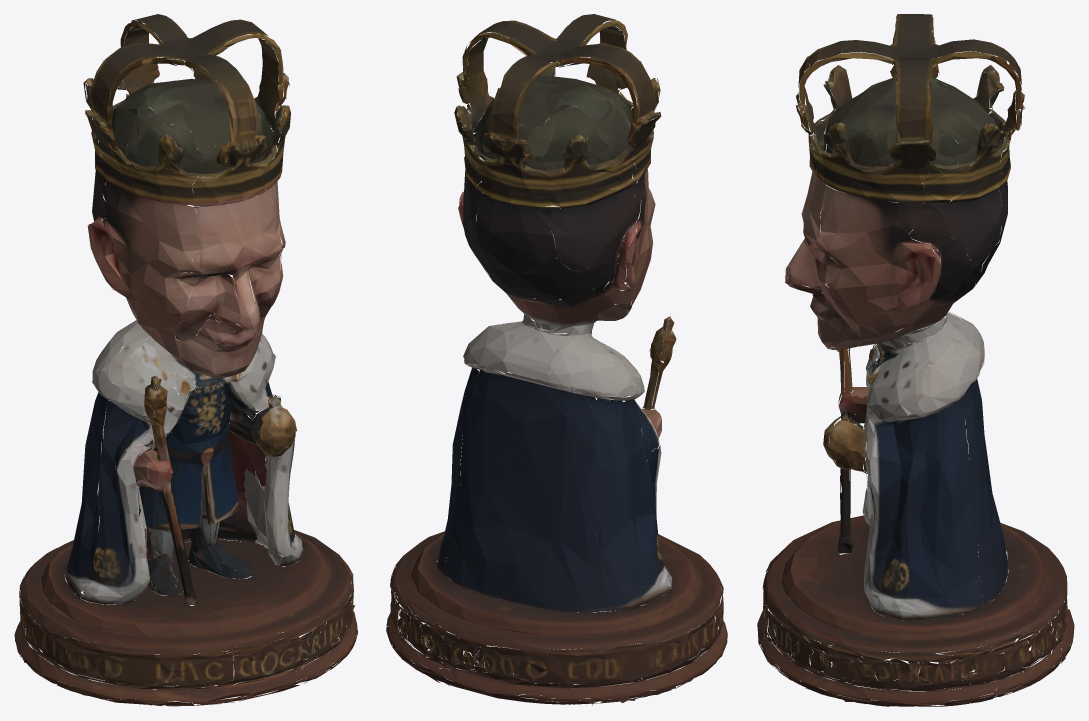
File: king-riccardo-hy2-10k.glb
3 views of the same model, side by side, from view 1: azimuth 30°, elevation 25°; view 2: azimuth 150°, elevation 25°; view 3: azimuth 270°, elevation 25° (orthographic).
Visible parts, largest first — view 1: tmpf9b_jwa8.ply; view 2: tmpf9b_jwa8.ply; view 3: tmpf9b_jwa8.ply.
Part boxes in pixels (box(x1,y1,x2,y2)): tmpf9b_jwa8.ply: box(14, 14, 357, 706); tmpf9b_jwa8.ply: box(386, 14, 727, 705); tmpf9b_jwa8.ply: box(757, 14, 1074, 706).
Size of the model in its own units: 1.05 by 2 by 0.967.
Materials: 1 (1 with a texture image).
